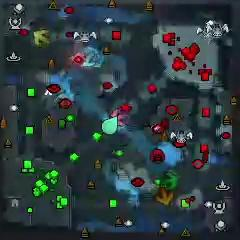p2: (102, 115, 118, 135)
x1: (110, 109, 126, 126)
x2: (33, 29, 50, 47)
x3: (81, 51, 96, 68)
x4: (160, 171, 179, 189)
x5: (157, 186, 174, 206)
